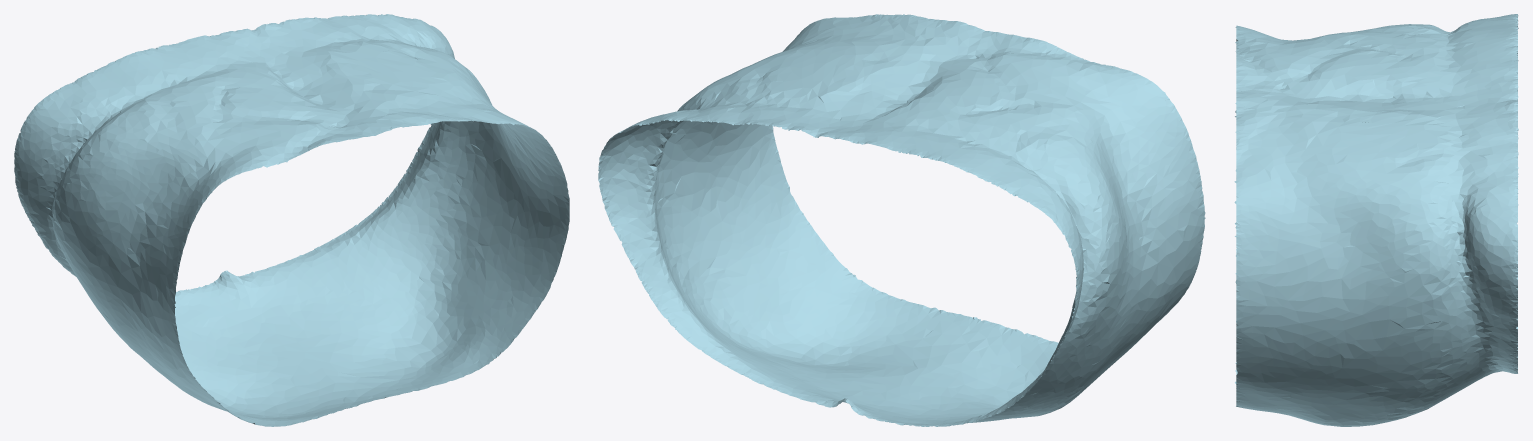
Rendered from skin.obj.
3 renders of one model, left to right at view 1: azimuth 30°, elevation 25°; view 2: azimuth 150°, elevation 25°; view 3: azimuth 270°, elevation 25°, orthographic. The views are drawn at different scales.
Parts seen in each view (by area): view 1: grp1; view 2: grp1; view 3: grp1.
Boxes of the visible parts, <box> form: grp1: <box>14,14,569,426</box>; grp1: <box>598,14,1205,426</box>; grp1: <box>1234,14,1518,426</box>.
Bounding box in the file's own units: 357 × 228 × 199.
